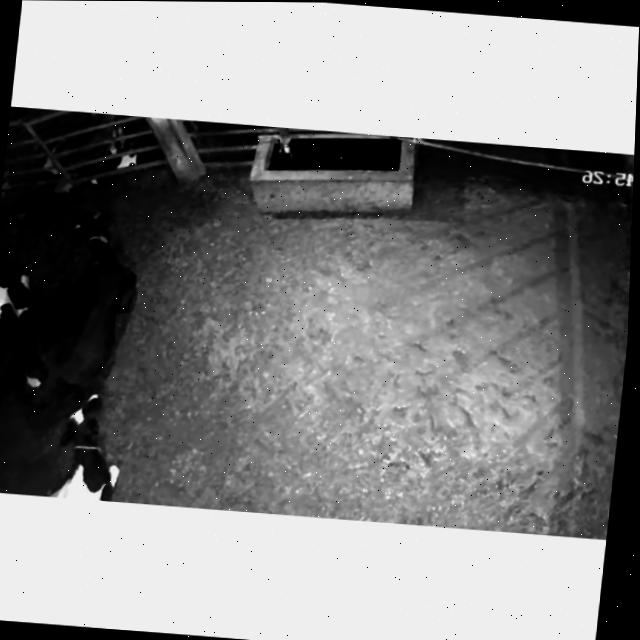lay: (5, 192, 175, 413), (1, 381, 172, 505), (0, 240, 39, 423)
